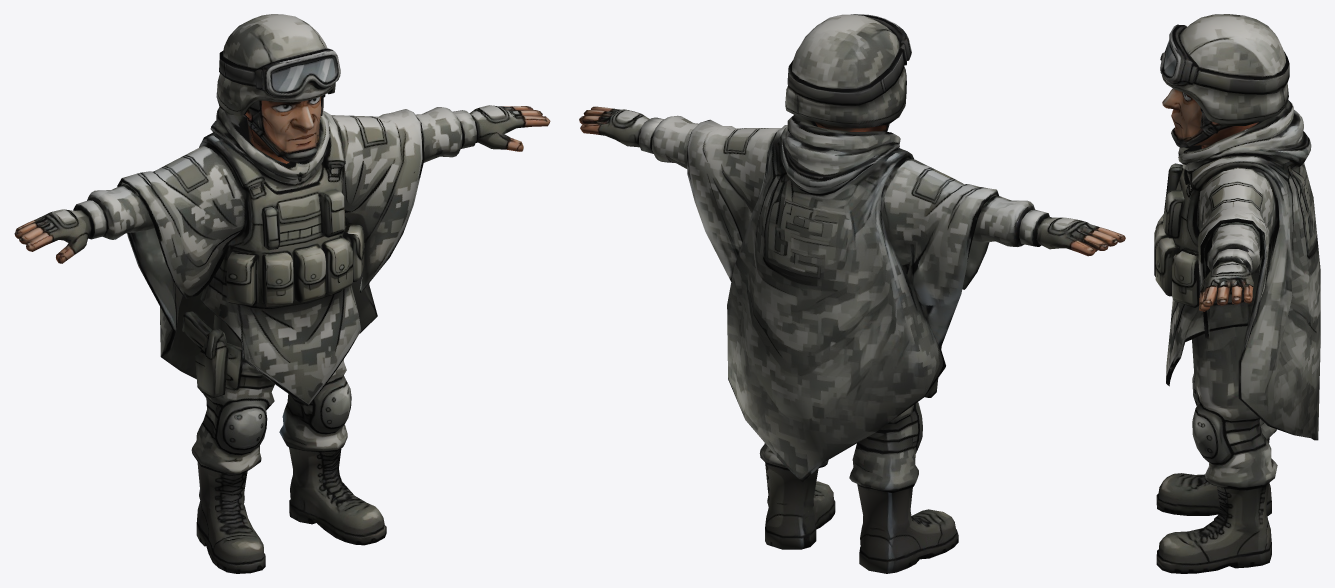
File: tripo_convert_ed5e4c81-3918-4c03-9498-bf1414beb914.fbx
3 renders of one model, left to right at view 1: azimuth 30°, elevation 25°; view 2: azimuth 150°, elevation 25°; view 3: azimuth 270°, elevation 25°, orthographic. The views are drawn at different scales.
Parts seen in each view (by area): view 1: tripo_node_ed5e4c81; view 2: tripo_node_ed5e4c81; view 3: tripo_node_ed5e4c81.
Part boxes in pixels (box(x1,y1,x2,y2)): tripo_node_ed5e4c81: box(14, 14, 550, 573); tripo_node_ed5e4c81: box(579, 14, 1125, 573); tripo_node_ed5e4c81: box(1154, 14, 1320, 573).
Size of the model in its own units: 99.95 by 27.39 by 93.21.
1 material, 1 textured.
